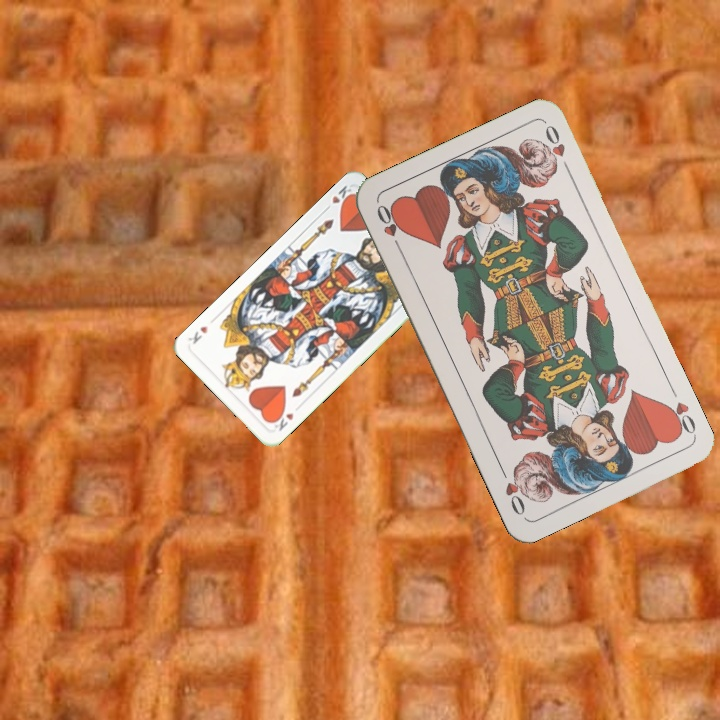HK: (320, 181, 357, 214), (268, 406, 296, 434)
HO: (372, 200, 406, 255), (661, 398, 699, 439)
